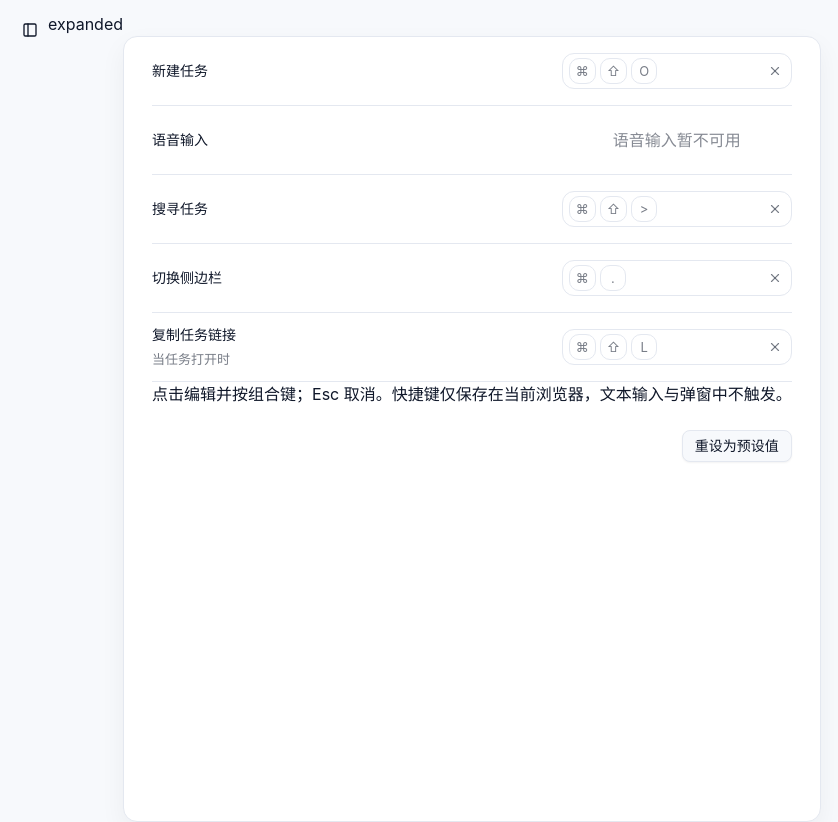
it: recording reports a legacy symbol alias conflict and preserves the original action
Click the button named "编辑切换侧边栏快捷键" at (664, 278), box [569,261,759,295]
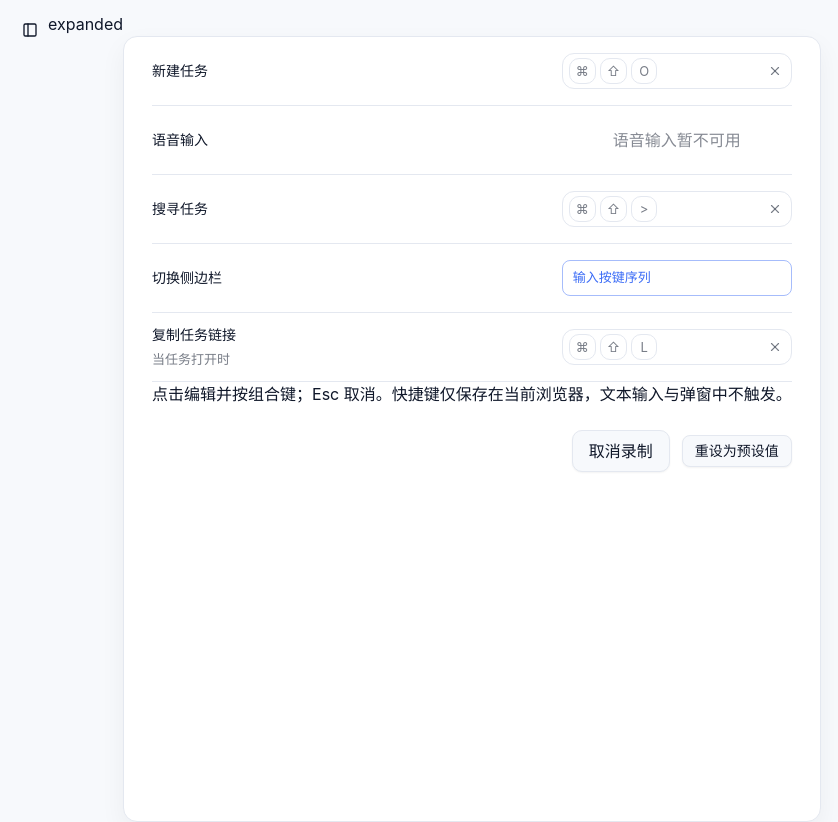
Press >
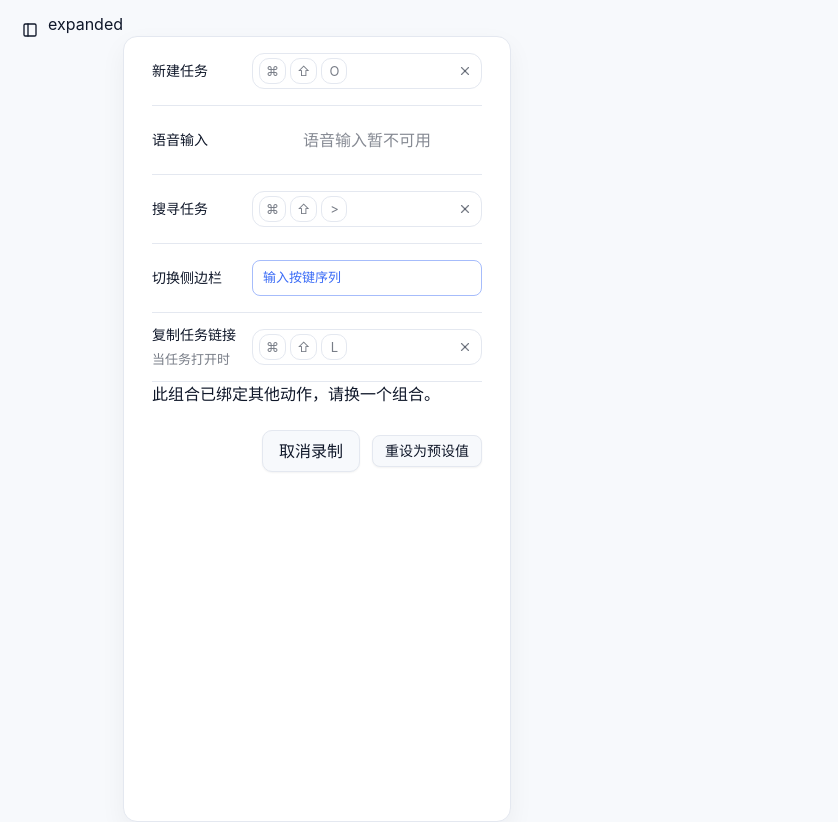
Expected: the button with aria-label "编辑切换侧边栏快捷键" reads "输入按键序列", [253,261,481,295]
Expected: the message shows "已绑定", [152,382,482,406]
